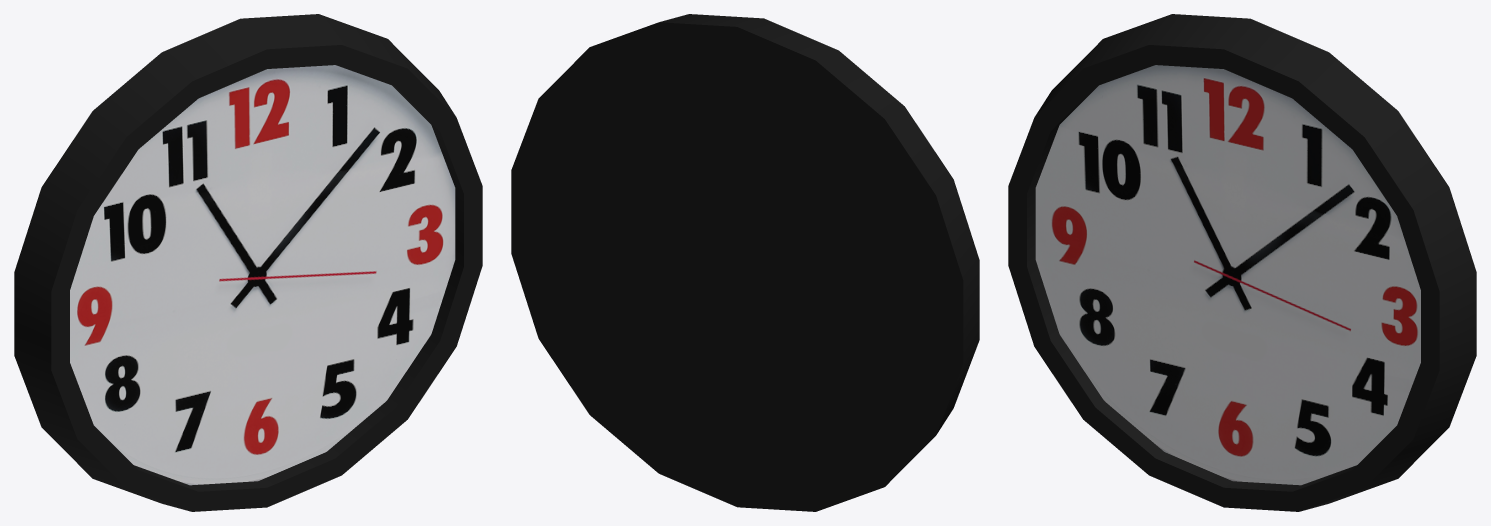
File: Clock.FBX
The picture shows the model from 3 angles, left to right: view 1: azimuth 30°, elevation 25°; view 2: azimuth 150°, elevation 25°; view 3: azimuth 330°, elevation 25°; orthographic projection.
Visible parts, largest first — view 1: Clock; view 2: Clock; view 3: Clock.
Part boxes in pixels (<box>): Clock: <box>14,14,482,511</box>; Clock: <box>511,14,979,511</box>; Clock: <box>1008,14,1476,511</box>.
Bounding box in the file's own units: 46.93 × 47.65 × 4.81.
Materials: 1 (1 with a texture image).
